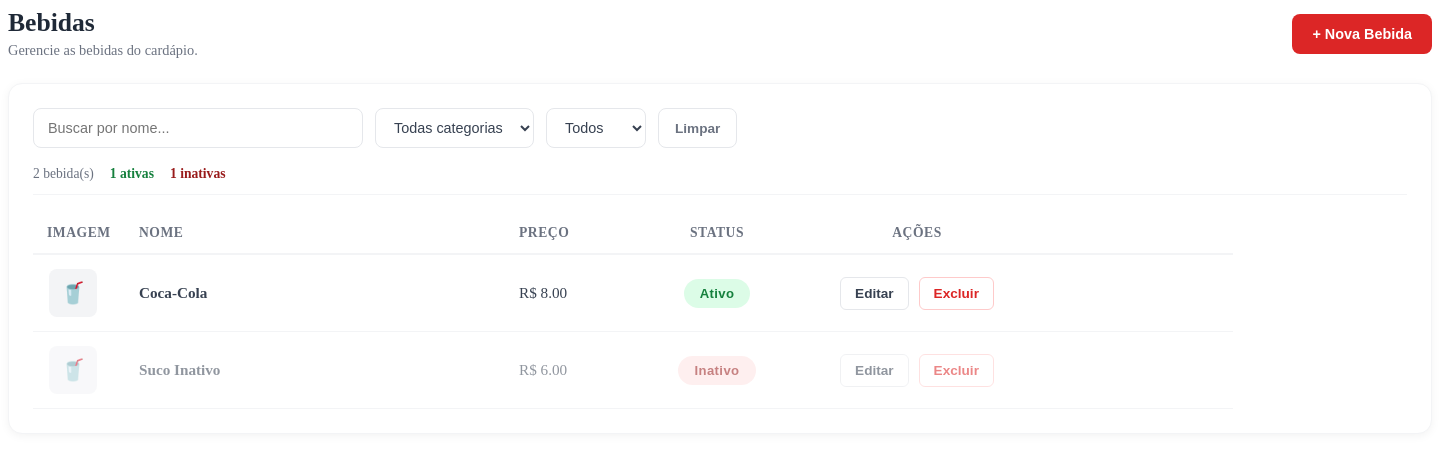
it: AdminBebidas › excluir pede confirmação e remove da lista
This screenshot has width=1440, height=451.
Expected: the text "Coca-Cola" is shown, [117,254,497,332]
What coordinates should you click on to do the following:
click the button "Excluir" in the row of "Coca-Cola"
I would click on:
 (956, 293)
Its box is [919,276,994,310].
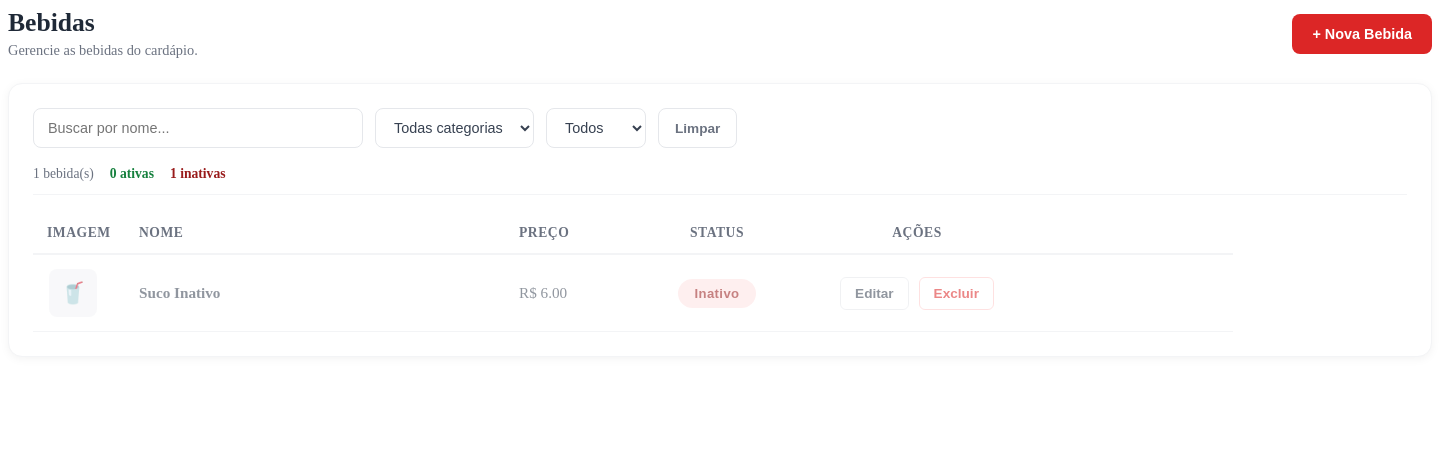
Result: the text "Coca-Cola" is gone
